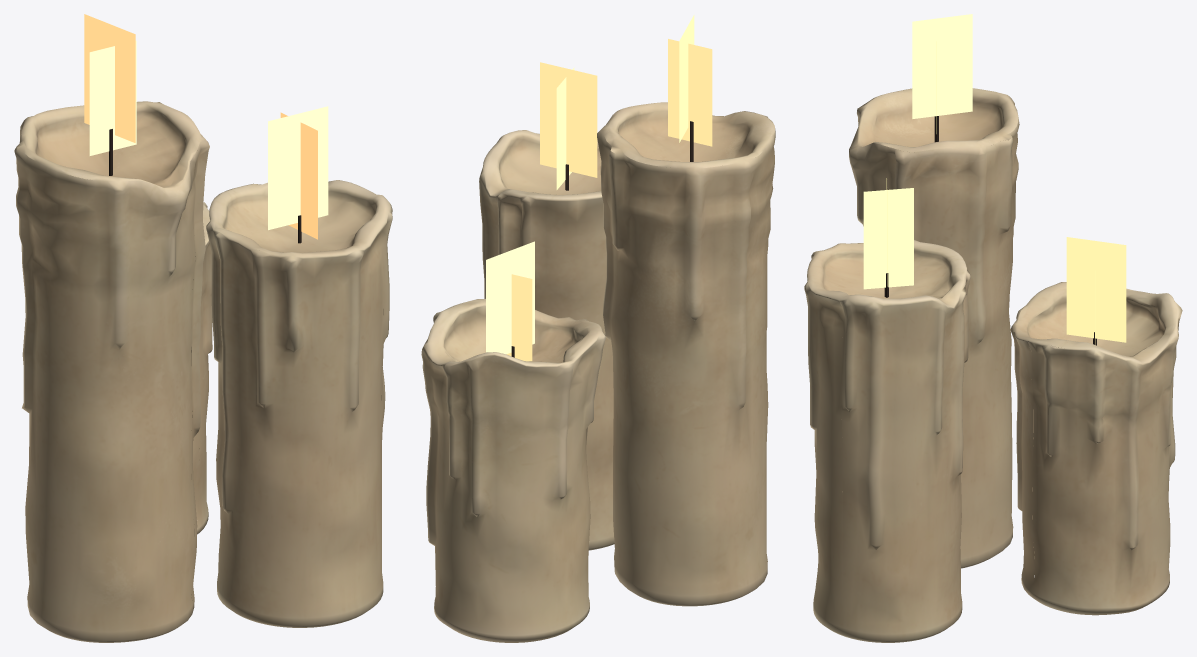
The model's file is Candles.fbx.
3 views of the same model, side by side, from view 1: azimuth 30°, elevation 25°; view 2: azimuth 150°, elevation 25°; view 3: azimuth 270°, elevation 25° (orthographic). The views are drawn at different scales.
Visible parts, largest first — view 1: Object_4, Object_2.001, Object_2.006; view 2: Object_4, Object_2.006, Object_2.001; view 3: Object_2.001, Object_2.006, Object_4.
Part boxes in pixels (x1,y1,x2,y2): Object_4: (14, 14, 209, 642); Object_2.001: (206, 106, 392, 627); Object_2.006: (193, 202, 212, 534); Object_4: (597, 15, 775, 606); Object_2.006: (421, 241, 605, 642); Object_2.001: (479, 62, 614, 550); Object_2.001: (804, 178, 970, 642); Object_2.006: (1010, 237, 1182, 615); Object_4: (849, 14, 1019, 568).
Bounding box in the file's own units: 2445 × 4281 × 2789.
